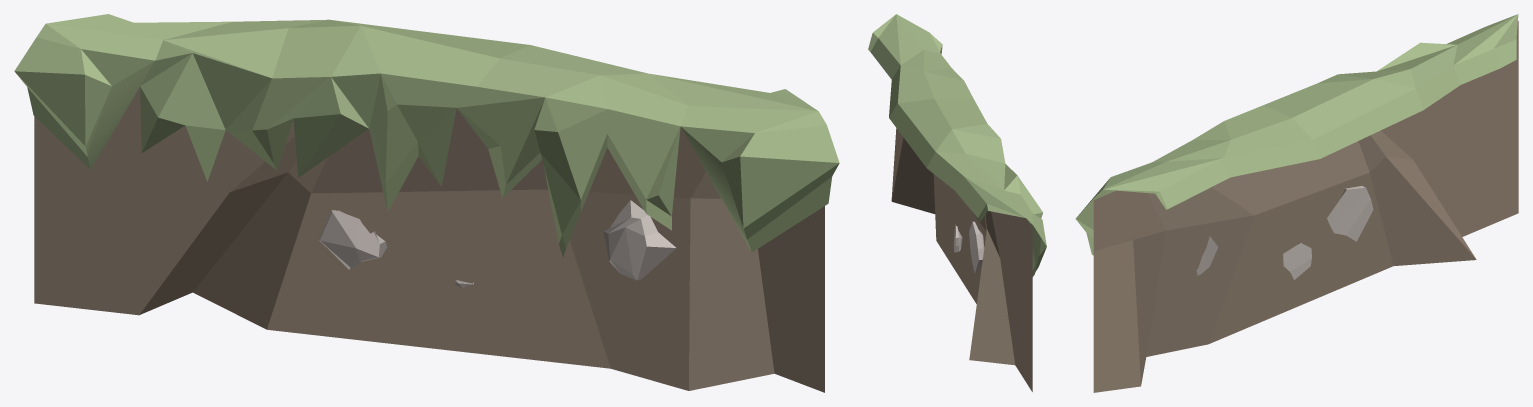
The model's file is ER_Terrain_1x1_GrassDiagonal_Half_001_B1.fbx.
3 views of the same model, side by side, from view 1: azimuth 30°, elevation 25°; view 2: azimuth 150°, elevation 25°; view 3: azimuth 270°, elevation 25° (orthographic). The views are drawn at different scales.
Visible parts, largest first — view 1: ER_Terrain_1x1_GrassDiagonal_Half_001_B1; view 2: ER_Terrain_1x1_GrassDiagonal_Half_001_B1; view 3: ER_Terrain_1x1_GrassDiagonal_Half_001_B1.
Boxes of the visible parts, box(x1,y1,x2,y2) form: ER_Terrain_1x1_GrassDiagonal_Half_001_B1: box(14, 14, 839, 392); ER_Terrain_1x1_GrassDiagonal_Half_001_B1: box(868, 14, 1046, 391); ER_Terrain_1x1_GrassDiagonal_Half_001_B1: box(1075, 14, 1518, 392).
Size of the model in its own units: 1.05 by 0.5608 by 1.04.
